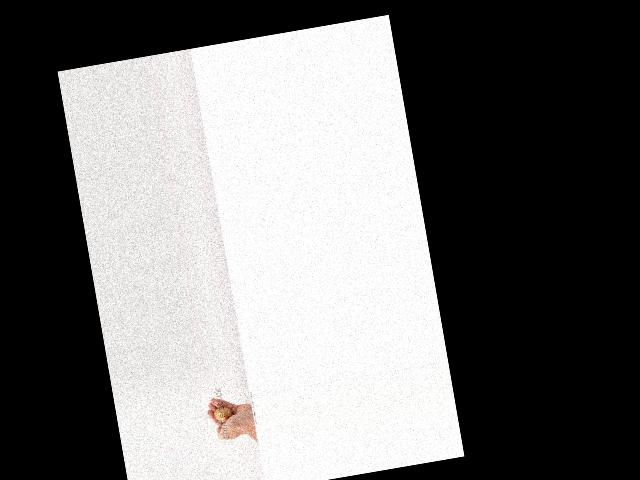egg: (213, 405, 233, 423)
